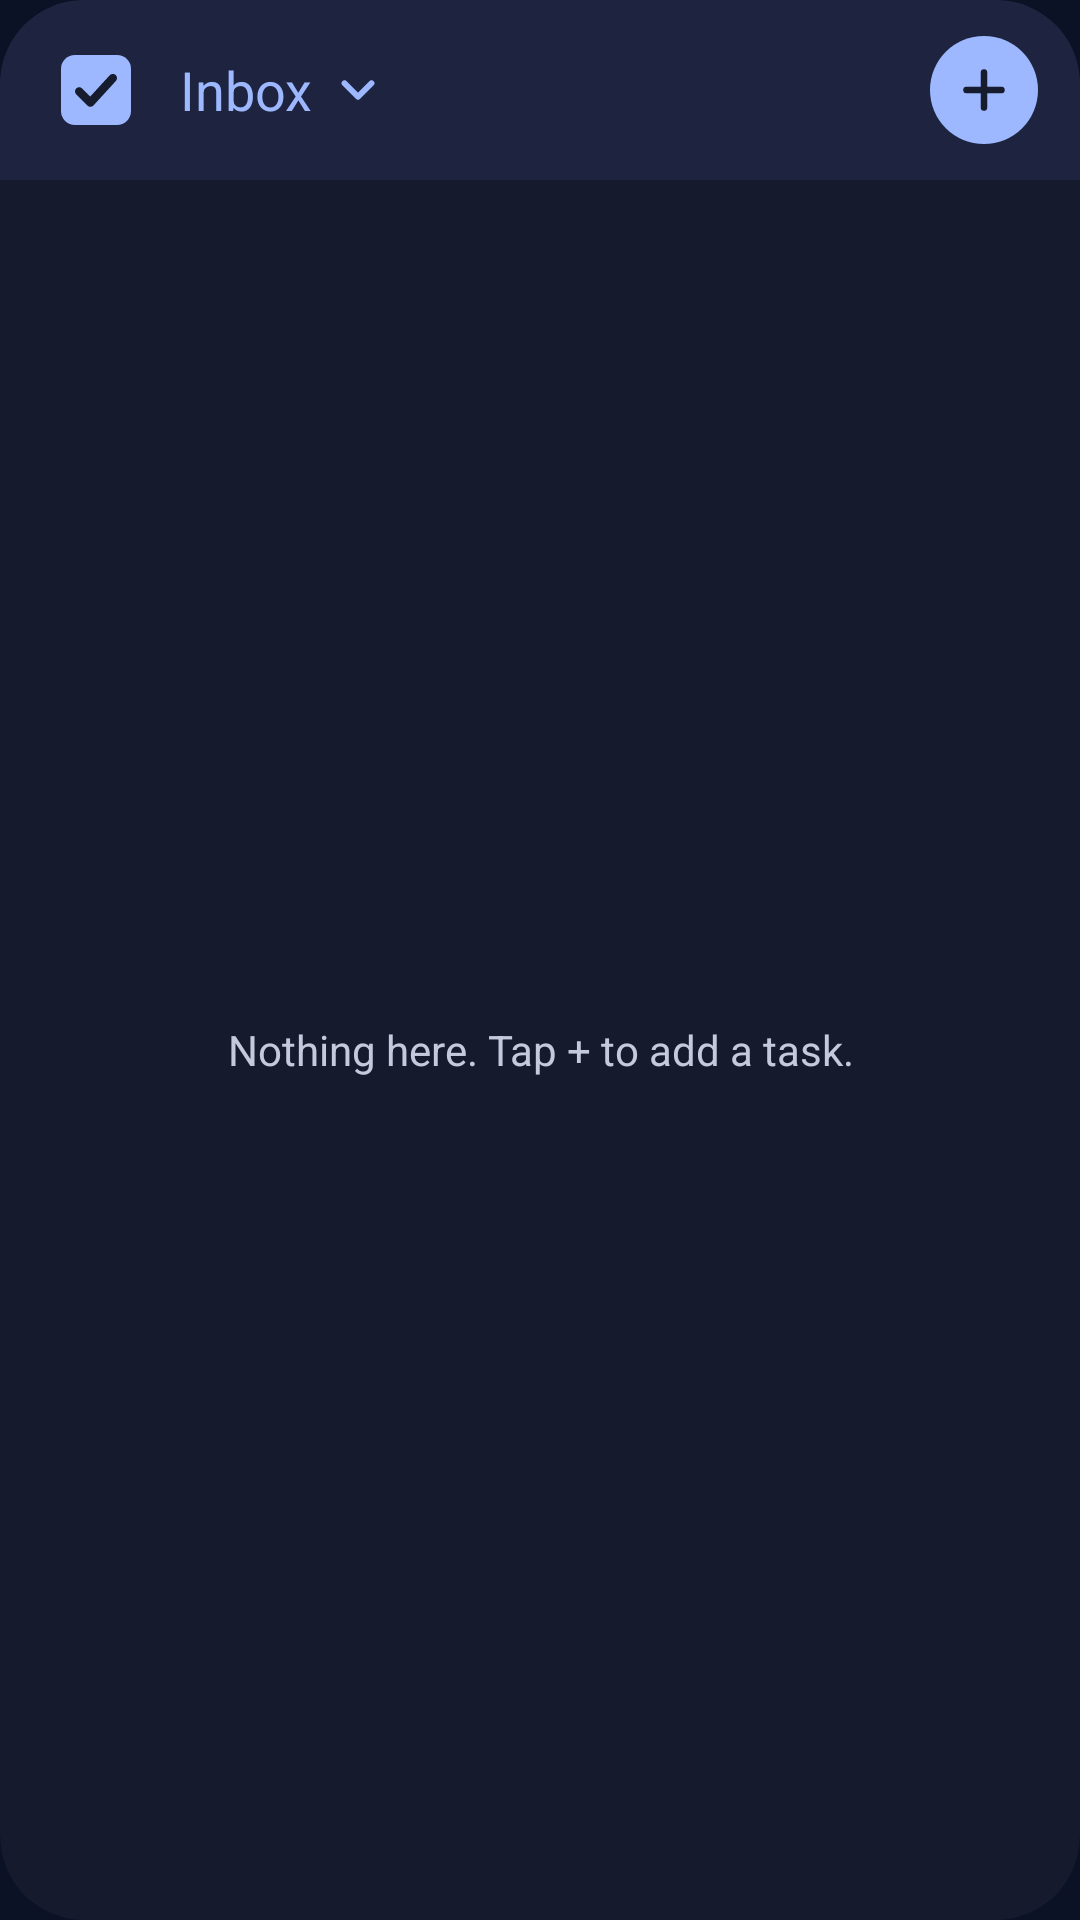

Screen size 1080px x 1920px. Icon name, then its box in pixels as (x1, y1, x2, y2):
widget chevron: (341, 80, 375, 100)
